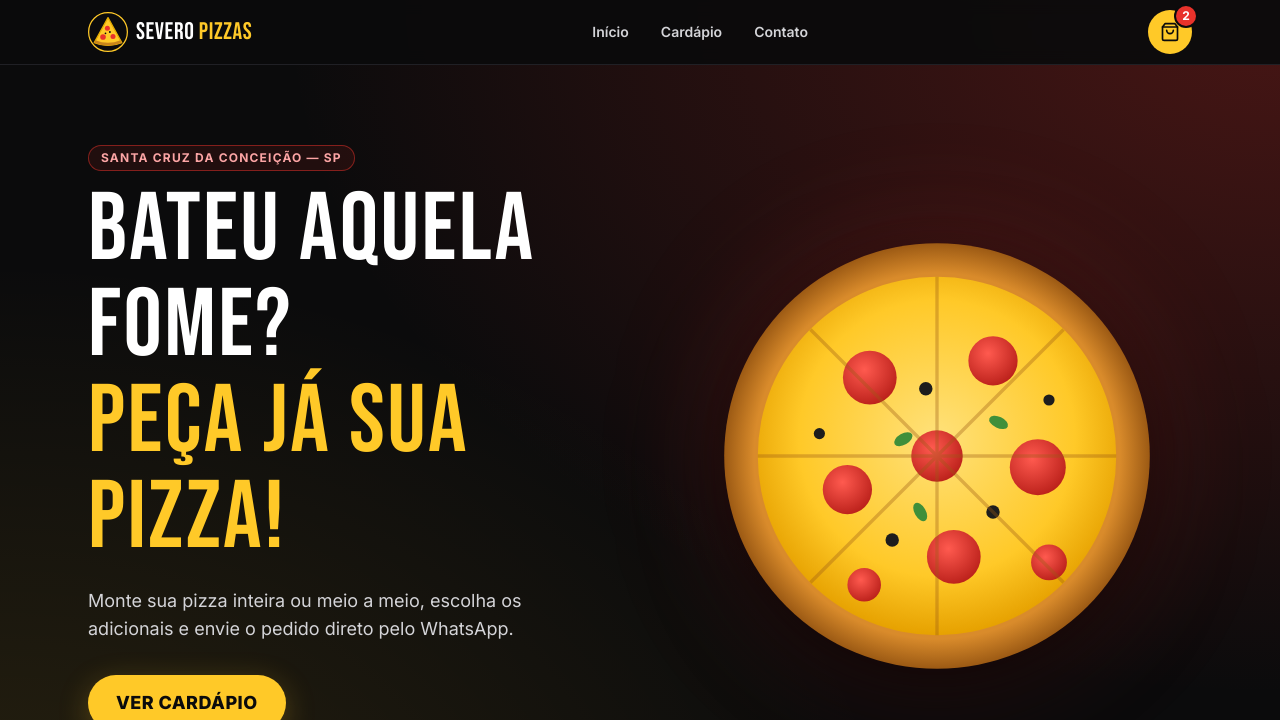
Test case: fluxo completo › carrinho é recarregado do LocalStorage com preços recalculados
The image size is (1280, 720).
Click the button named "Abrir carrinho, 2 itens": (1170, 32) [1148,10,1192,54]
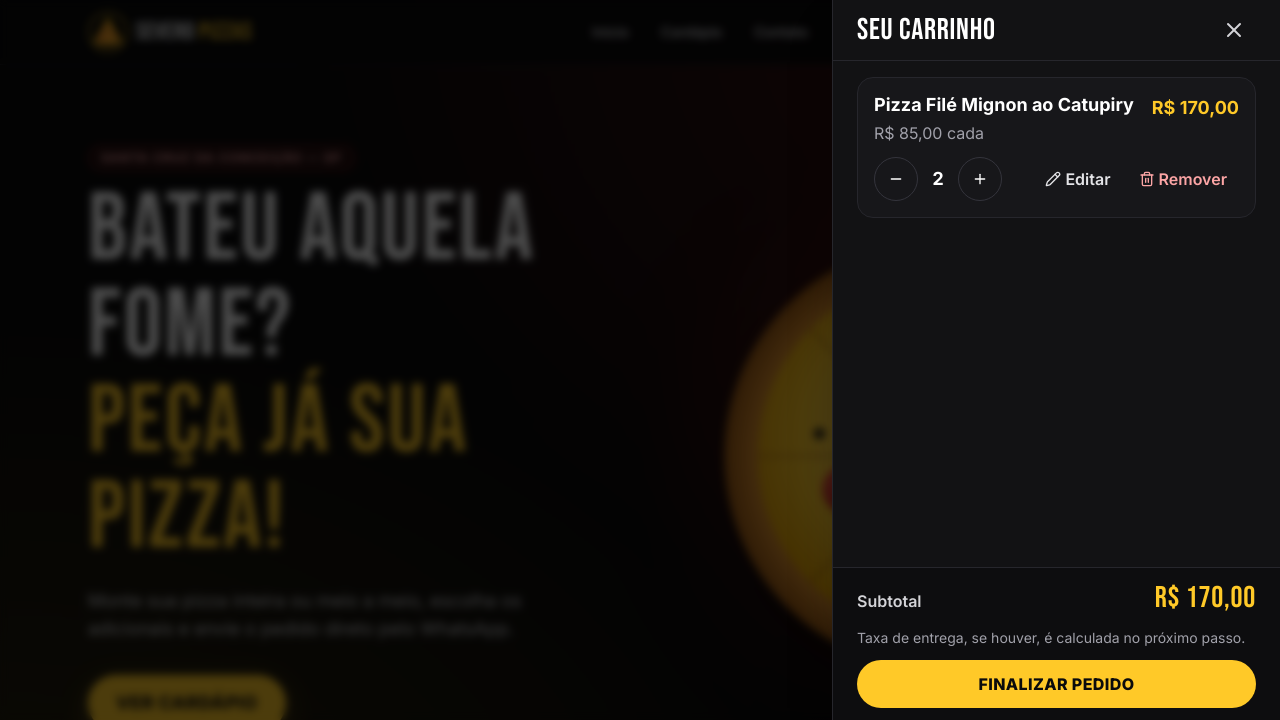
Expected: the text with test id "cart-subtotal" reads "R$ 170,00", [1155,580,1256,616]
